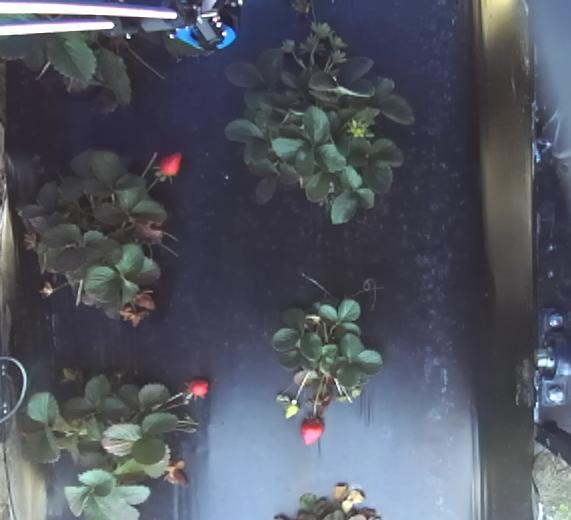mature: (155, 150, 182, 183), (299, 416, 324, 445), (185, 376, 209, 399)
